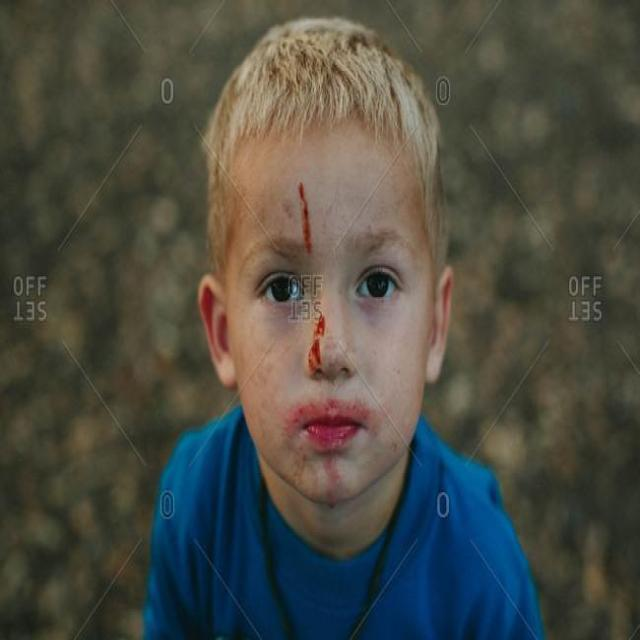flood: (299, 178, 312, 253), (310, 314, 324, 366)
